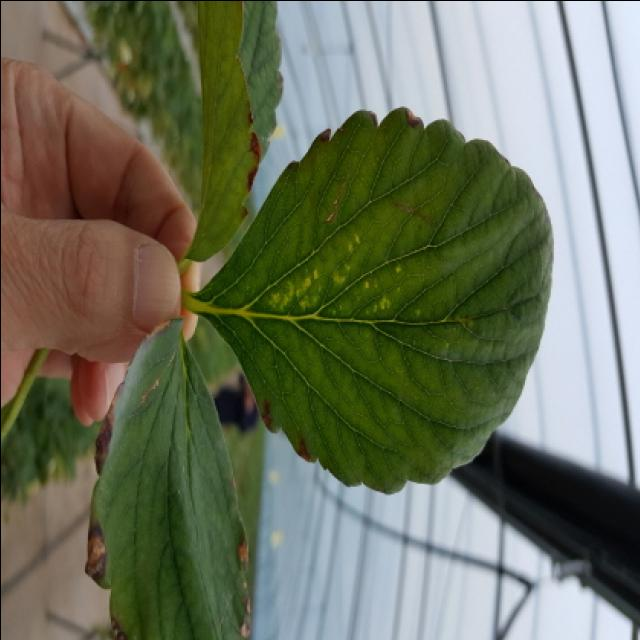Angular Leafspot: (248, 196, 451, 358)
